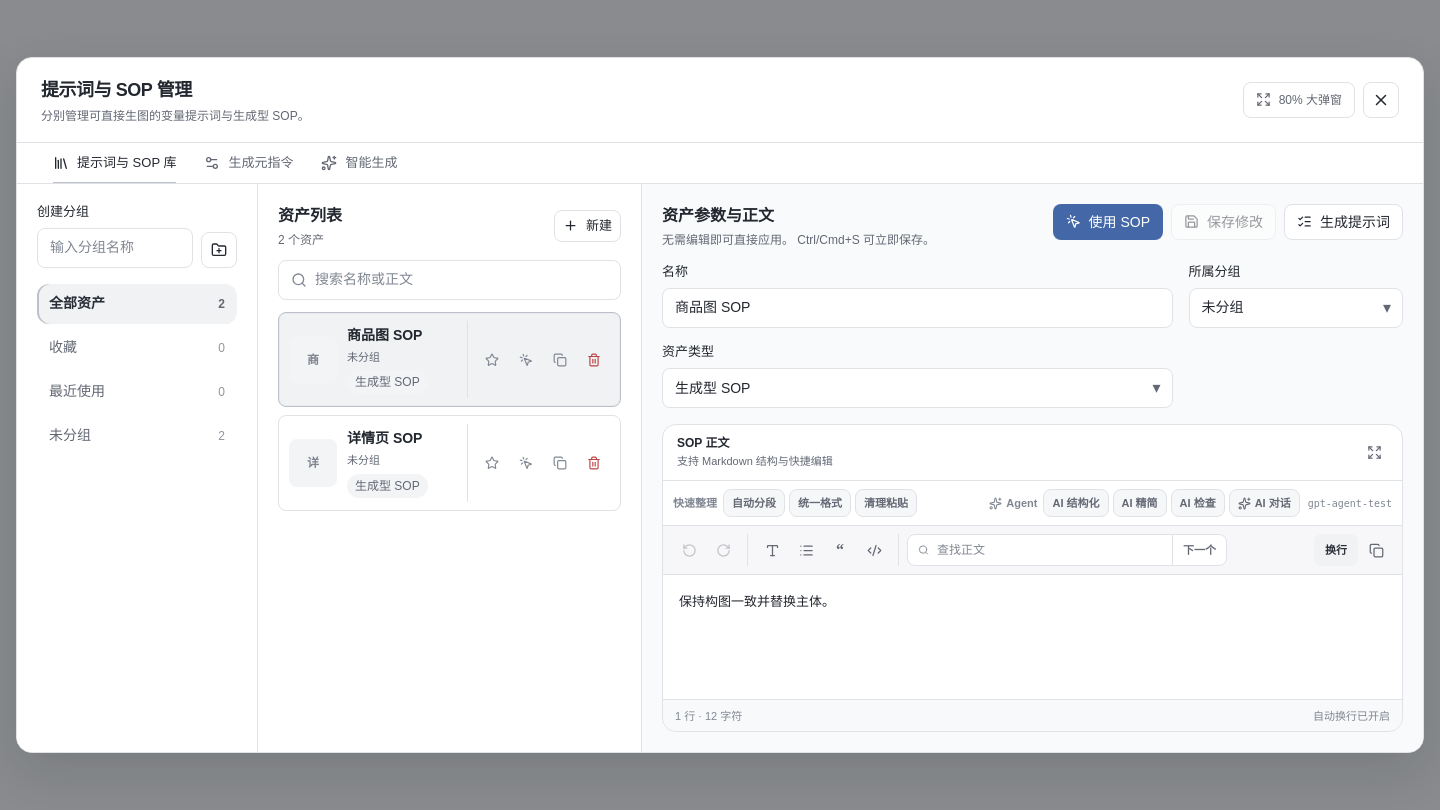
Test: SopManagementCenter apply and save actions › flushes a pending automatic save before switching SOPs
Replace the text in the field labelled "名称" with "切换前保存的 SOP" at (917, 308), box 662,288 -> 1173,328
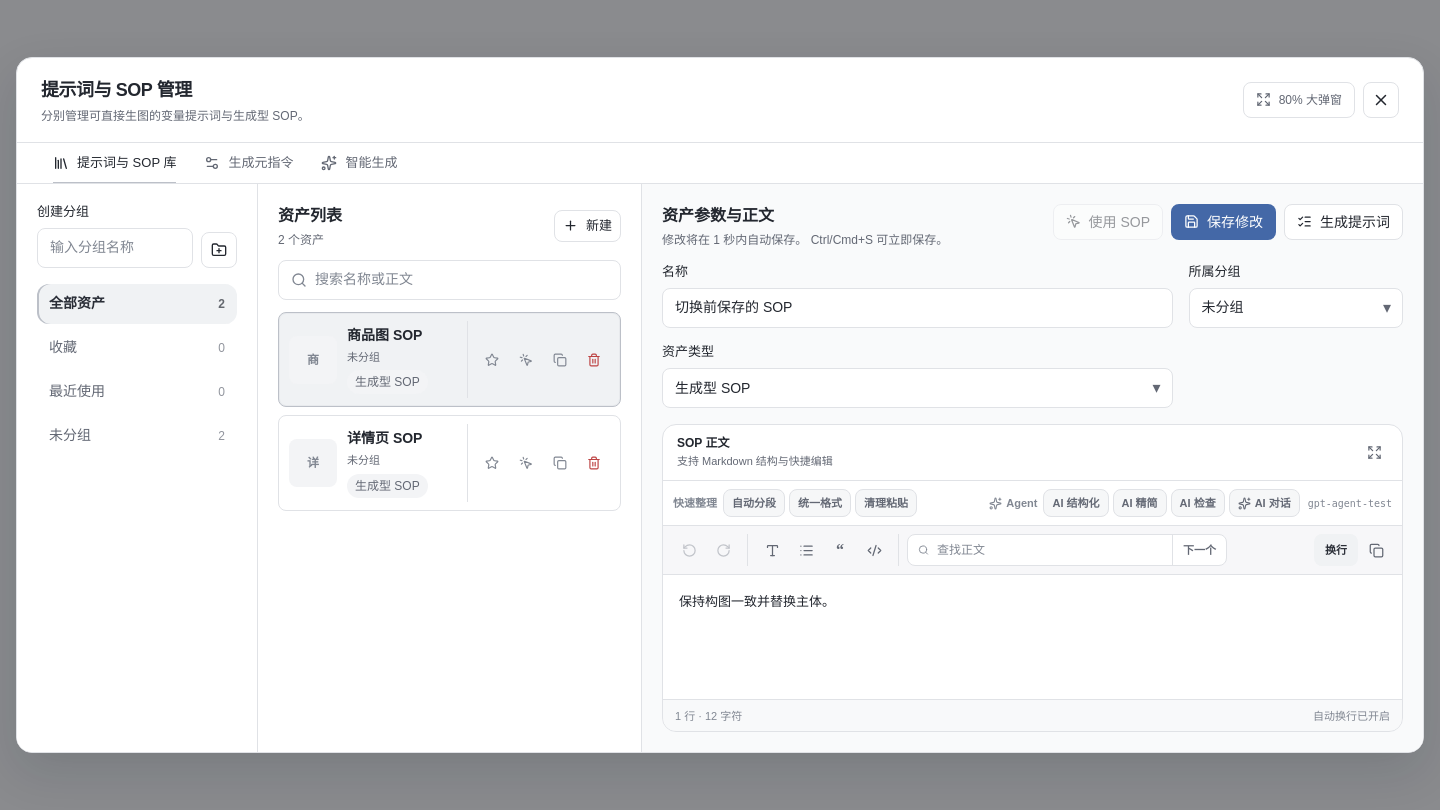
Click the button "详情页 SOP 未分组 生成型 SOP" at (402, 463), box 347,424 -> 457,502
Wait 1000 ms
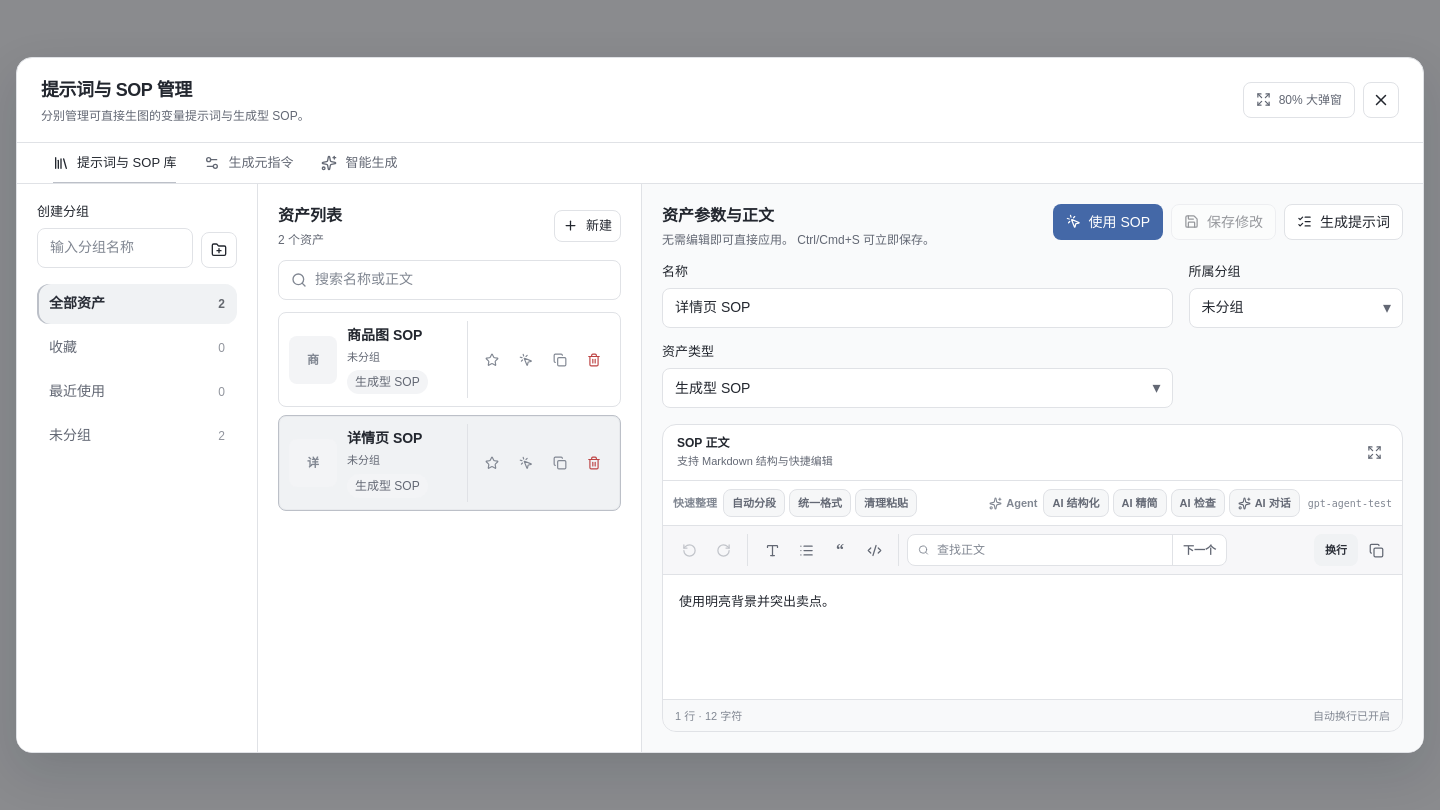
Now the text box named "SOP 正文" holds "使用明亮背景并突出卖点。", box 663,575 -> 1402,699
